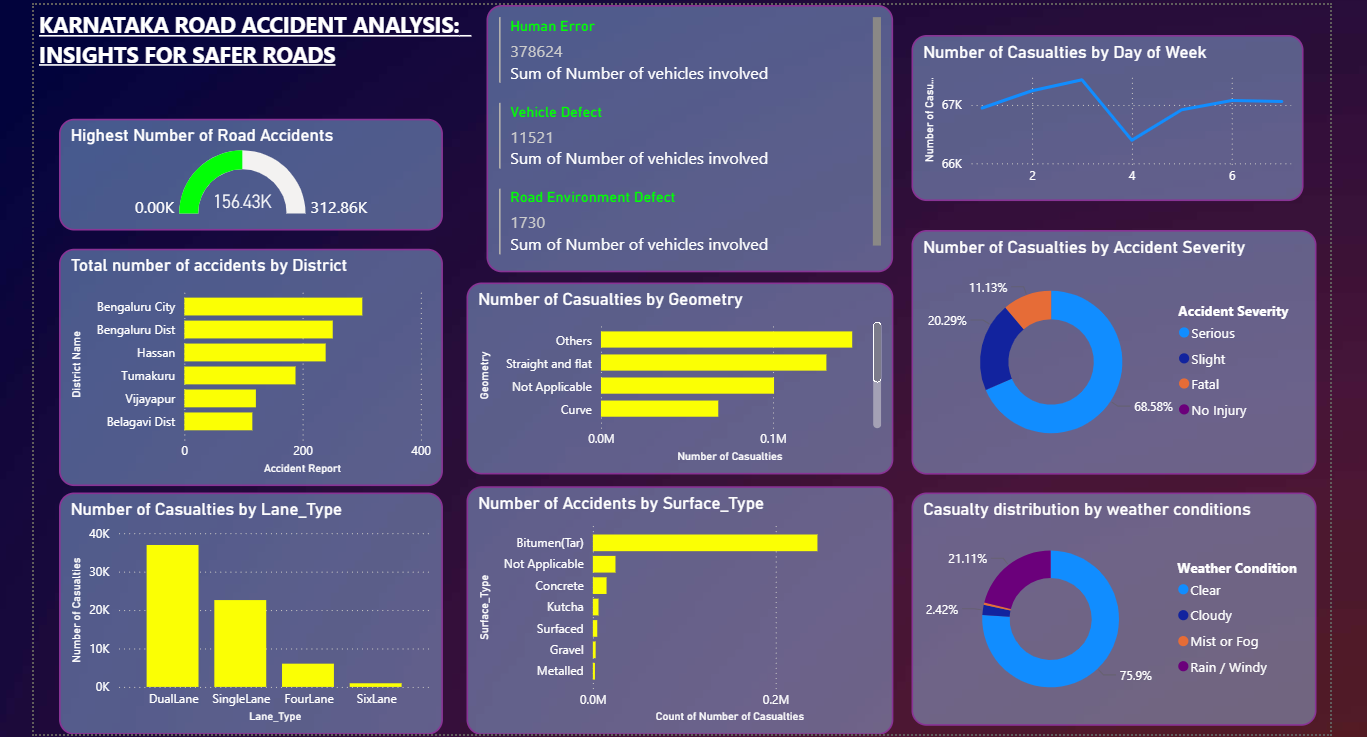

The page's visual inventory and layout, read from the dashboard file:
{"tool":"powerbi","page":{"name":"Page 1","canvas":[1280,720],"ordinal":0},"visuals":[{"type":"clusteredBarChart","title":"Total number of accidents by District ","fields":{"Category":["Copy of AccidentReports.District Name"],"Y":["Count(Copy of AccidentReports)"]},"box":[24.6,240.2,379.4,234.7],"z":0},{"type":"donutChart","fields":{"Category":["Copy of AccidentReports.Accident Severity"],"Y":["Sum(Copy of AccidentReports.Number of Casualties)"]},"box":[866.5,222.4,399.8,241.5],"z":1000},{"type":"gauge","fields":{"Y":["Count(Copy of AccidentReports)"]},"box":[24.6,111.9,379.4,110.5],"z":2000},{"type":"donutChart","title":"Casualty distribution by weather conditions","fields":{"Category":["Copy of AccidentReports.Weather Condition"],"Y":["Sum(Copy of AccidentReports.Number of Casualties)"]},"box":[866.5,481.7,399.8,230.6],"z":3000},{"type":"clusteredColumnChart","fields":{"Category":["Copy of AccidentReports.Lane_Type"],"Y":["Sum(Copy of AccidentReports.Number of Casualties)"]},"box":[24.6,481.7,379.4,238.8],"z":4000},{"type":"clusteredBarChart","title":"Number of Accidents by Surface_Type","fields":{"Category":["Copy of AccidentReports.Surface_Type"],"Y":["CountNonNull(Copy of AccidentReports.Number of Casualties)"]},"box":[427.1,474.9,421.7,245.6],"z":5000},{"type":"multiRowCard","title":"Top cause of accident - Human Error","fields":{"Values":["Copy of AccidentReports.Cause","Sum(Copy of AccidentReports.Number of vehicles involved)"]},"box":[447.1,0,401.4,264.3],"z":6000},{"type":"barChart","fields":{"Category":["Copy of AccidentReports.Road_Character"],"Y":["Sum(Copy of AccidentReports.Number of Casualties)"]},"box":[427.1,274.3,421.7,189.7],"z":7000},{"type":"lineChart","fields":{"Category":["Copy of AccidentReports.WeekDay"],"Y":["Sum(Copy of AccidentReports.Number of Casualties)"]},"box":[866.5,30,387.5,163.8],"z":8000},{"type":"textbox","box":[0,0,436.7,71],"z":9000}]}

Visuals, with their boxes in screenshot pixels (x1, y1, x2, y2):
"Total number of accidents by District " clusteredBarChart: box(57, 264, 440, 501)
donutChart - Copy of AccidentReports.Accident Severity x Sum(Copy of AccidentReports.Number of Casualties): box(907, 246, 1310, 490)
gauge - Count(Copy of AccidentReports): box(57, 134, 440, 246)
"Casualty distribution by weather conditions" donutChart: box(907, 508, 1310, 736)
clusteredColumnChart - Copy of AccidentReports.Lane_Type x Sum(Copy of AccidentReports.Number of Casualties): box(57, 508, 440, 736)
"Number of Accidents by Surface_Type" clusteredBarChart: box(463, 501, 889, 736)
"Top cause of accident - Human Error" multiRowCard: box(483, 21, 888, 288)
barChart - Copy of AccidentReports.Road_Character x Sum(Copy of AccidentReports.Number of Casualties): box(463, 298, 889, 490)
lineChart - Copy of AccidentReports.WeekDay x Sum(Copy of AccidentReports.Number of Casualties): box(907, 52, 1298, 217)
textbox: box(32, 21, 473, 93)
